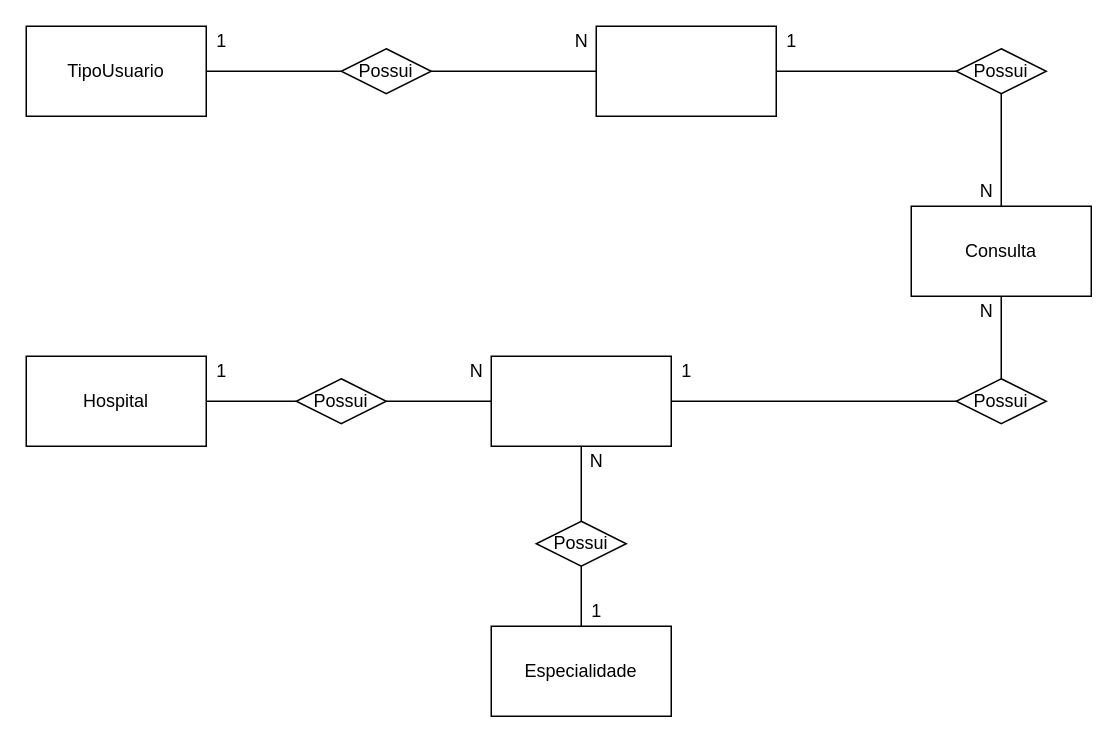
The diagram is 1118 pixels wide and 743 high, and some of its shapes have lost their labels. Each missing label, with the centre of its shape:
Médico: (x=580, y=400)
Paciente: (x=685, y=70)
